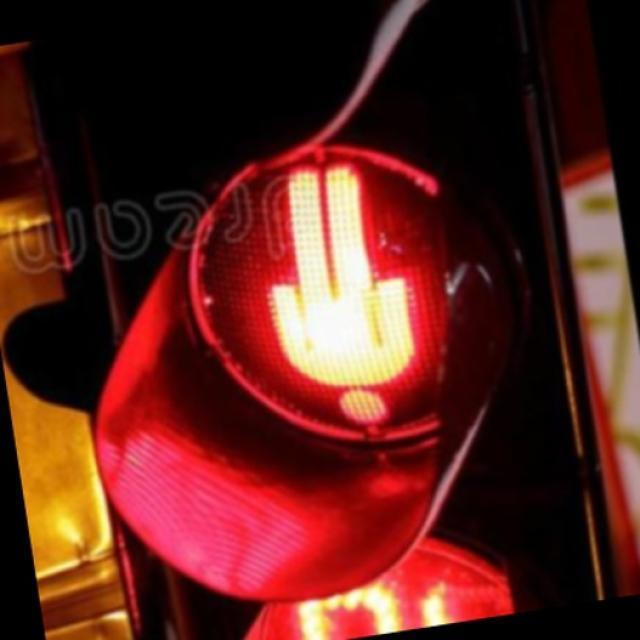red-crossing: (80, 113, 556, 525)
